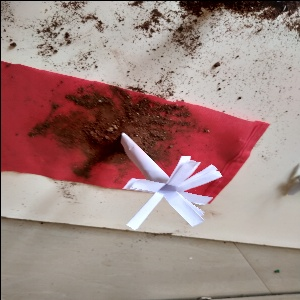weed: (109, 132, 218, 233)
